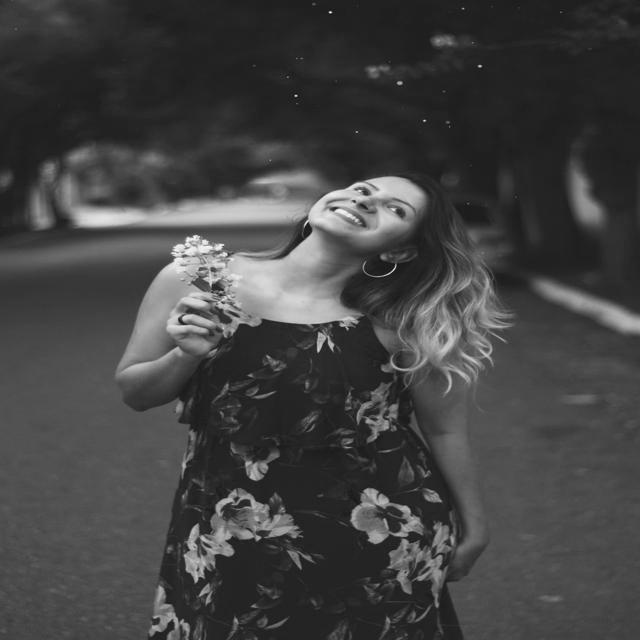Happiness: (305, 173, 430, 252)
